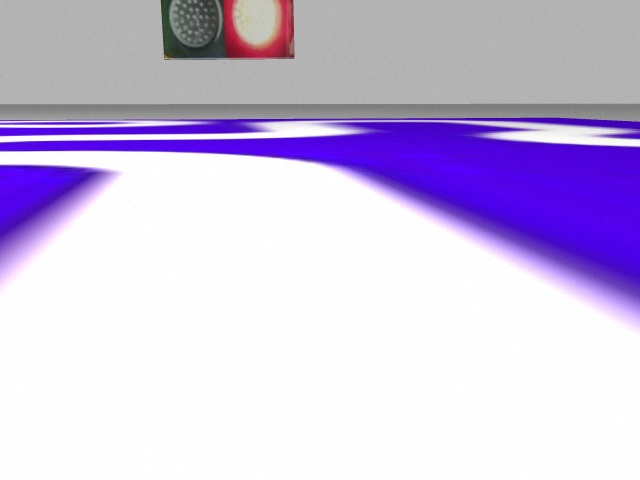red: (222, 2, 295, 57)
